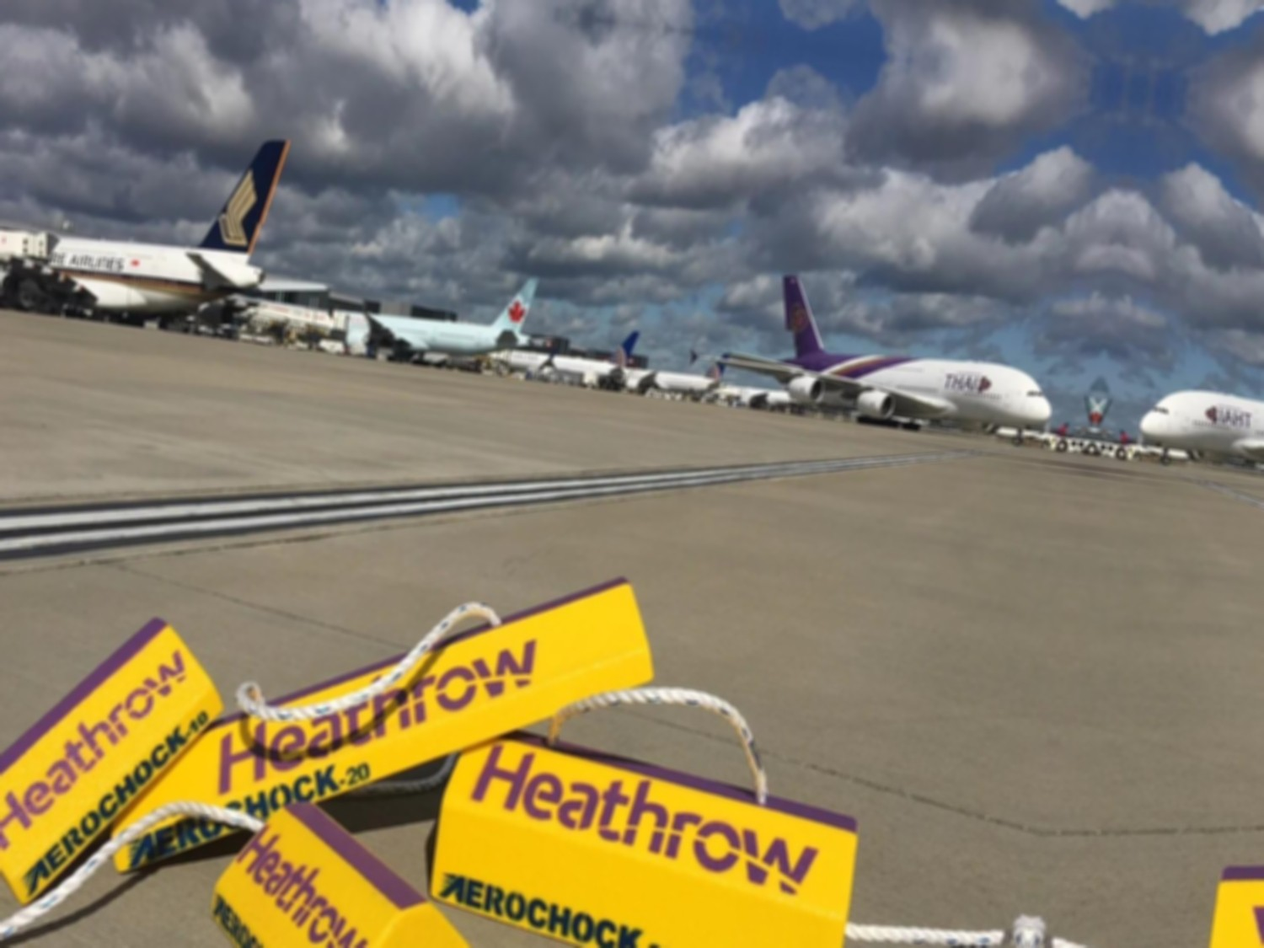chock: (95, 509, 667, 938), (415, 706, 871, 948), (0, 585, 236, 930), (192, 788, 496, 948)
